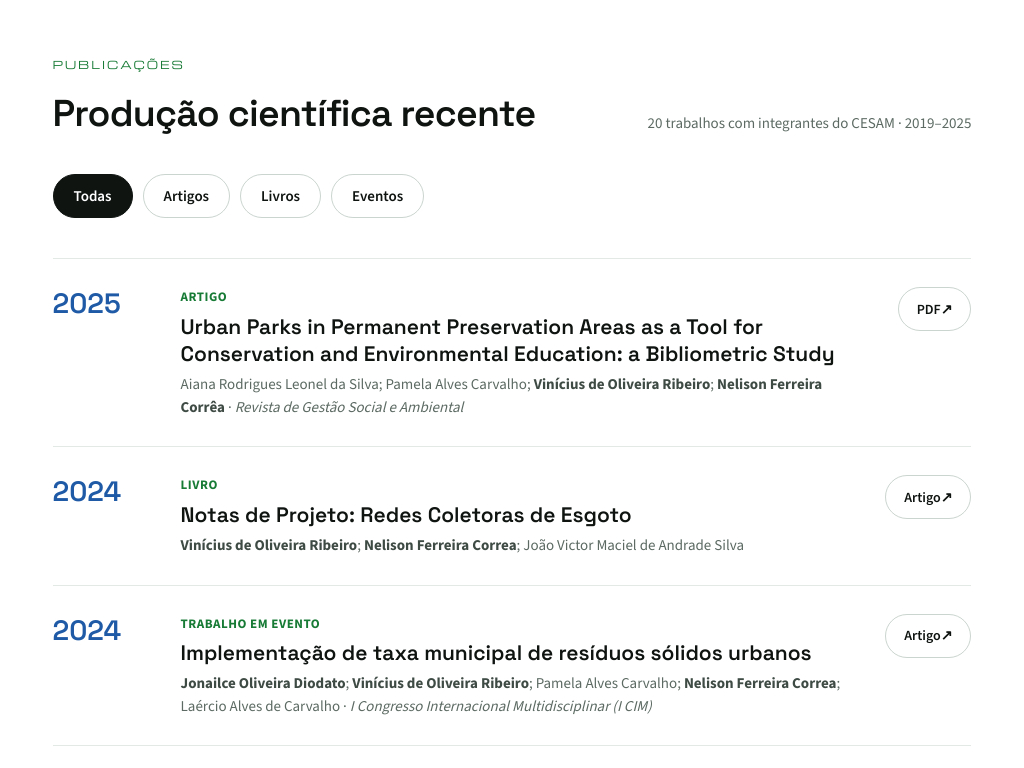
it: Produção científica (SPEC-006) › só oferece filtros de tipos que têm publicações e filtra com aria-pressed
Click the button "Eventos". click: point(378, 196)
box: [331,174,424,218]
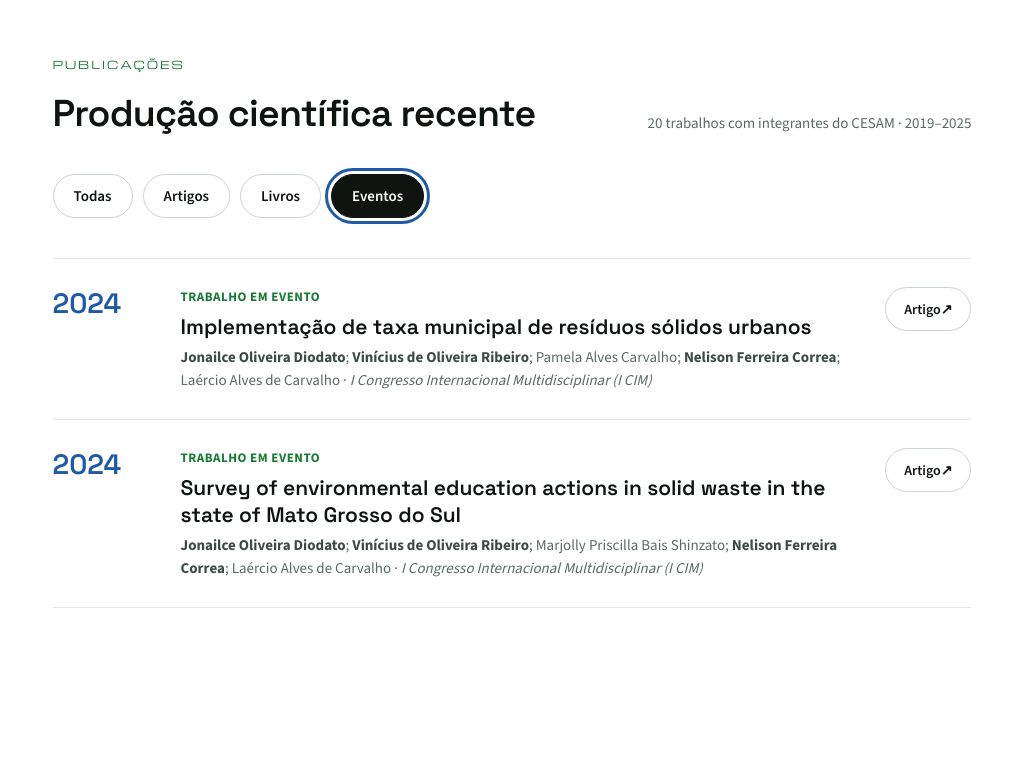
Now the number of list items is 2, box [52,259,971,420]; [52,420,971,608]
